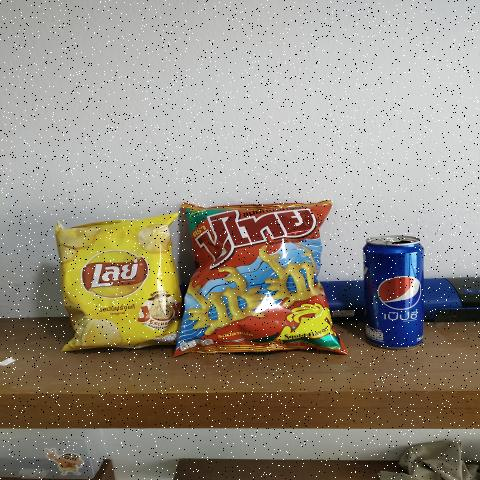pepsi_blue: (361, 233, 434, 349)
